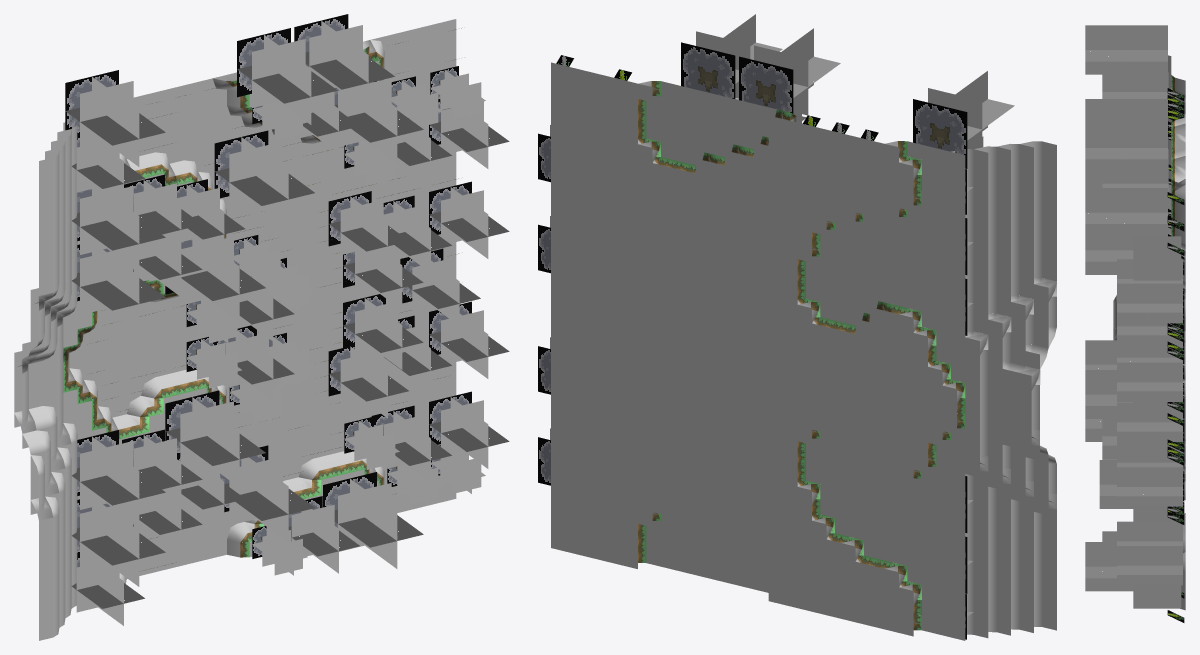
File: Pasture-Place_01_01.obj
The picture shows the model from 3 angles, left to right: view 1: azimuth 30°, elevation 25°; view 2: azimuth 150°, elevation 25°; view 3: azimuth 270°, elevation 25°; orthographic projection. The views are drawn at different scales.
Parts seen in each view (by area): view 1: map; view 2: map; view 3: map.
Boxes of the visible parts, <box> form: map: <box>14,14,509,640</box>; map: <box>538,14,1056,640</box>; map: <box>1085,25,1185,622</box>.
Bounding box in the file's own units: 33 × 34.75 × 6.94.
